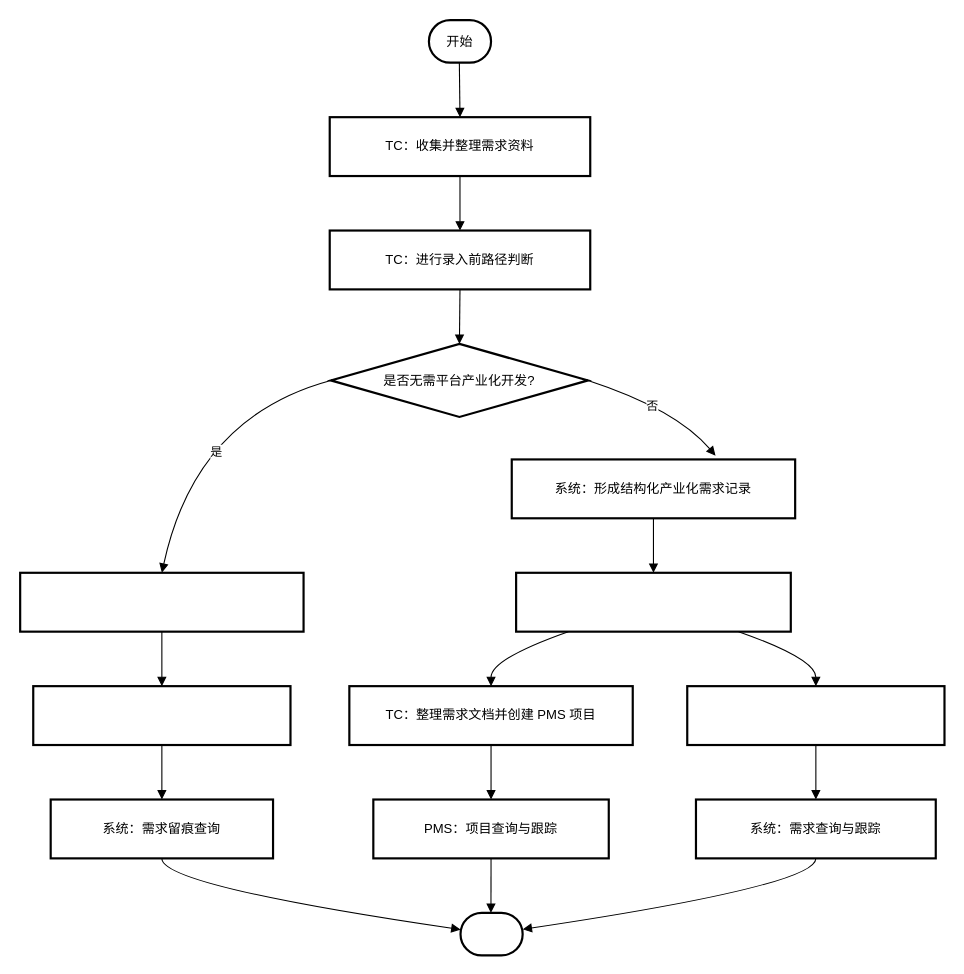
Image size: 964x974. Some labels were removed from this diagram. The shapes that lost their labels are listed below. From the top down, each one's box as (x1, y1, x2, y2) in pixels, then its label:
(19, 571, 304, 632): PMS：按无需平台产业化开发路径处理
(514, 571, 791, 632): 系统：需求校验与补充确认
(32, 685, 291, 746): 系统：形成必要留痕记录
(686, 685, 945, 746): 系统：记录需求分发结果
(459, 911, 523, 956): 结束
